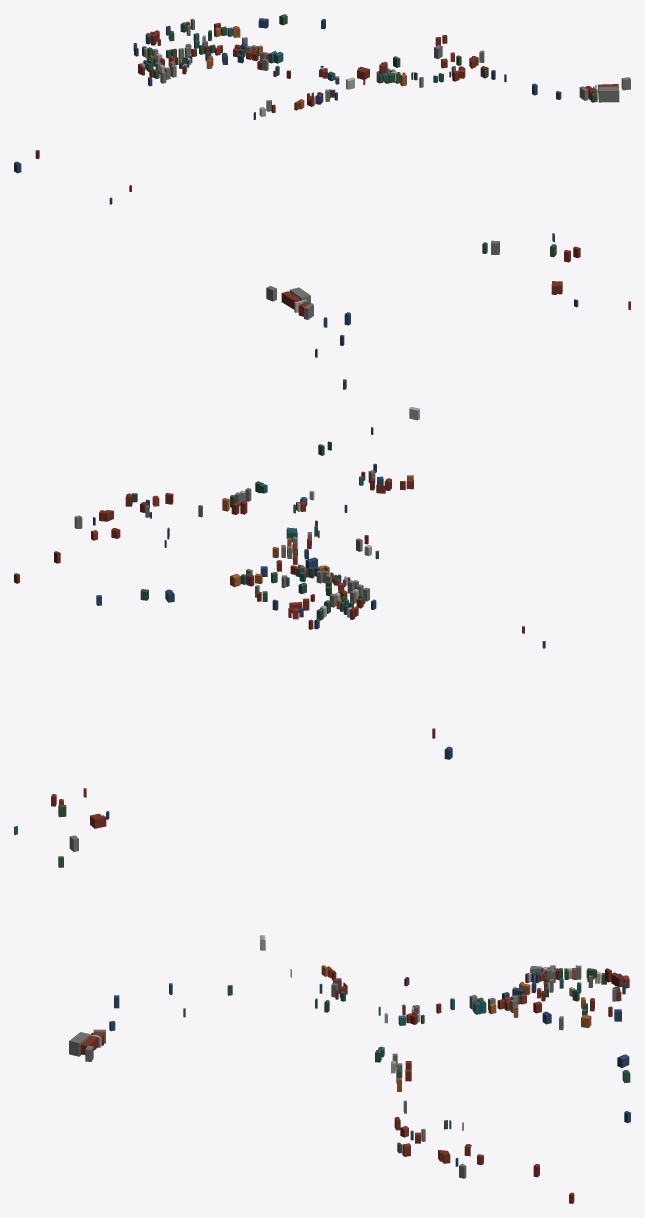
File: near-15-27358-14873.8a0697b9.glb
The picture shows the model from 3 angles, top to bottom: view 1: azimuth 30°, elevation 25°; view 2: azimuth 150°, elevation 25°; view 3: azimuth 270°, elevation 25°; orthographic projection. The views are drawn at different scales.
Size of the model in its own units: 1041 by 610 by 1149.
